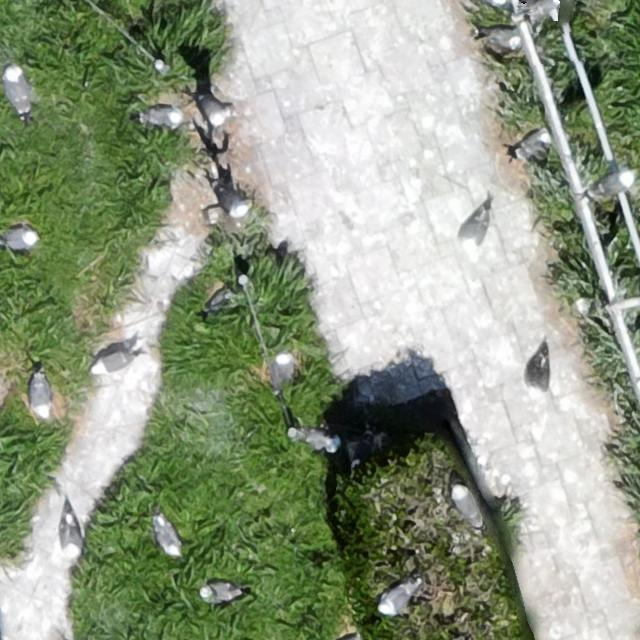umineko: (453, 199, 497, 263), (54, 505, 88, 559), (527, 342, 553, 406), (194, 82, 230, 127), (381, 582, 415, 612), (453, 486, 478, 523), (7, 70, 29, 111), (95, 351, 134, 373), (155, 518, 179, 552), (29, 376, 49, 416), (596, 171, 632, 192), (485, 28, 523, 47), (144, 108, 182, 127), (204, 582, 239, 602), (222, 190, 248, 216), (5, 228, 37, 249), (272, 352, 291, 384), (518, 130, 546, 149), (574, 298, 591, 319), (486, 0, 512, 6)
